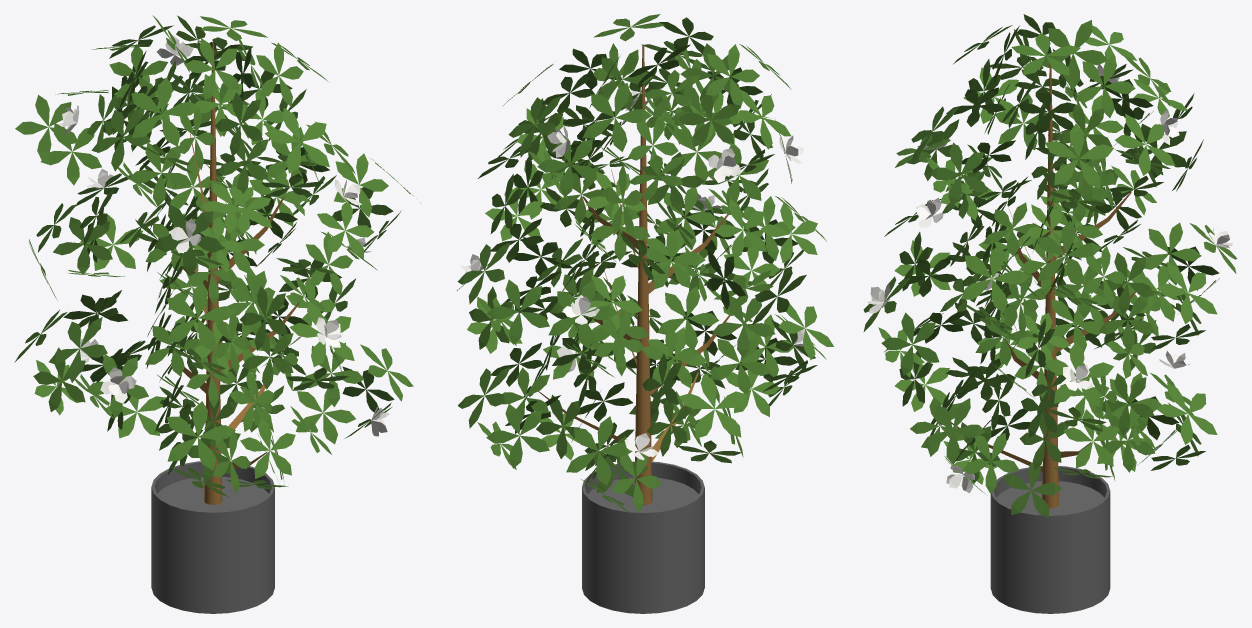
File: planta-en-maceta-1.glb
3 renders of one model, left to right at view 1: azimuth 30°, elevation 25°; view 2: azimuth 150°, elevation 25°; view 3: azimuth 270°, elevation 25°, orthographic. The views are drawn at different scales.
Parts seen in each view (by area): view 1: SketchUp.011, SketchUp, SketchUp.036, SketchUp.002; view 2: SketchUp.011, SketchUp, SketchUp.002, SketchUp.036; view 3: SketchUp.011, SketchUp, SketchUp.036, SketchUp.002.
Boxes of the visible parts, <box> form: SketchUp.011: <box>14,15,420,496</box>; SketchUp: <box>151,461,274,613</box>; SketchUp.036: <box>58,35,389,436</box>; SketchUp.002: <box>183,42,299,504</box>; SketchUp.011: <box>457,14,833,513</box>; SketchUp: <box>582,461,704,613</box>; SketchUp.002: <box>538,45,729,505</box>; SketchUp.036: <box>460,90,804,460</box>; SketchUp.011: <box>863,14,1237,517</box>; SketchUp: <box>990,466,1110,613</box>; SketchUp.036: <box>867,64,1232,493</box>; SketchUp.002: <box>951,64,1135,508</box>.
Size of the model in its own units: 1.08 by 1.68 by 1.04.
